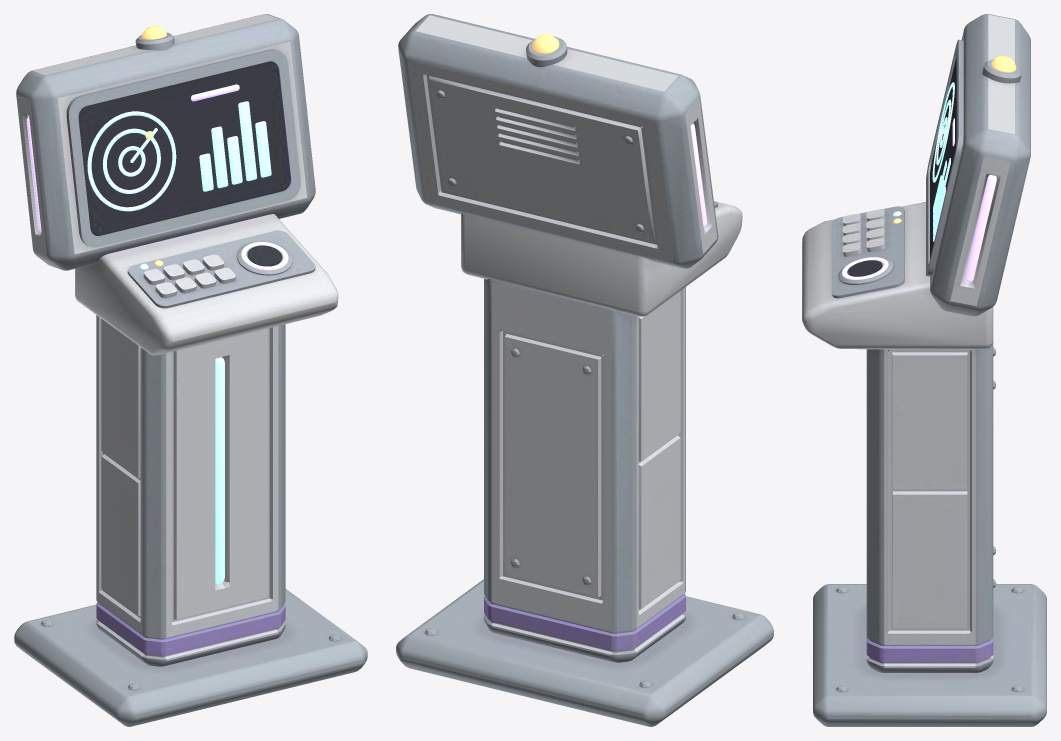
File: sci-fi-terminal.glb
The picture shows the model from 3 angles, left to right: view 1: azimuth 30°, elevation 25°; view 2: azimuth 150°, elevation 25°; view 3: azimuth 270°, elevation 25°; orthographic projection. The views are drawn at different scales.
Visible parts, largest first — view 1: sci-fi-terminal_body, sci-fi-terminal_lights_glow; view 2: sci-fi-terminal_body, sci-fi-terminal_lights_glow; view 3: sci-fi-terminal_body, sci-fi-terminal_lights_glow.
Boxes of the visible parts, bbox=[...] form: sci-fi-terminal_body: bbox=[14, 14, 367, 726]; sci-fi-terminal_lights_glow: bbox=[26, 26, 288, 583]; sci-fi-terminal_body: bbox=[396, 14, 773, 726]; sci-fi-terminal_lights_glow: bbox=[532, 34, 707, 227]; sci-fi-terminal_body: bbox=[802, 14, 1046, 726]; sci-fi-terminal_lights_glow: bbox=[842, 55, 1016, 282].
Bounding box in the file's own units: 0.64 × 1.39 × 0.5025.
Materials: 4 (1 with a texture image).
